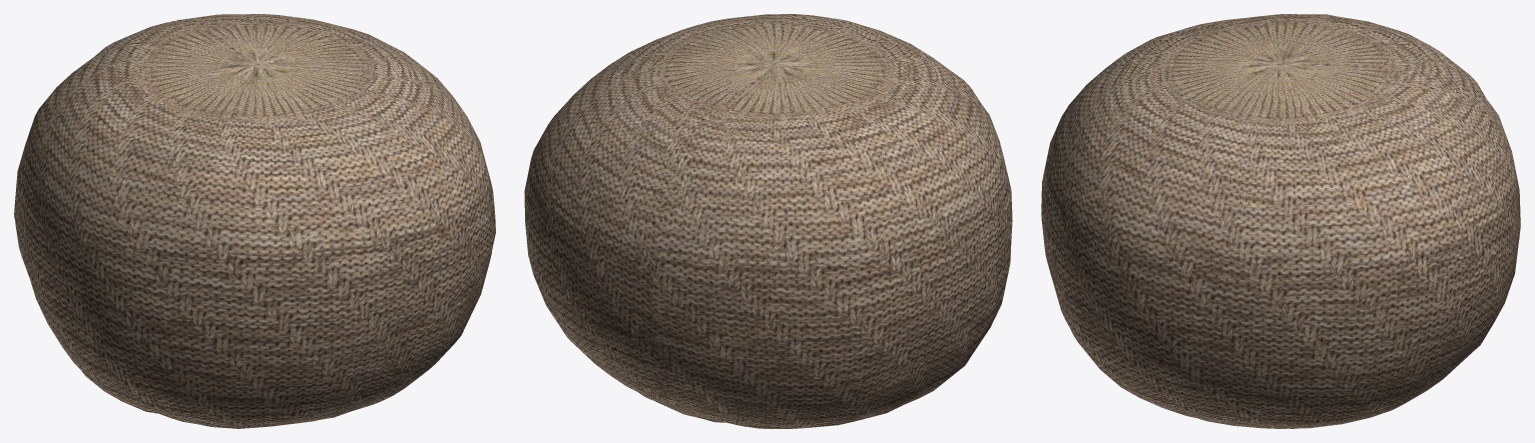
File: sandared_puf_00385314.glb
The picture shows the model from 3 angles, left to right: view 1: azimuth 30°, elevation 25°; view 2: azimuth 150°, elevation 25°; view 3: azimuth 270°, elevation 25°; orthographic projection.
Visible parts, largest first — view 1: sandared_puf_00385314; view 2: sandared_puf_00385314; view 3: sandared_puf_00385314.
Boxes of the visible parts, x1,y1,x2,y2 form: sandared_puf_00385314: (14, 14, 495, 428); sandared_puf_00385314: (524, 14, 1012, 428); sandared_puf_00385314: (1041, 14, 1520, 428).
Size of the model in its own units: 0.4511 by 0.3293 by 0.4513.
Materials: 1 (1 with a texture image).
